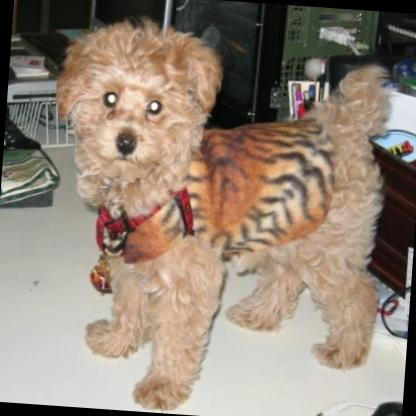toy_poodle: (31, 7, 397, 416)
